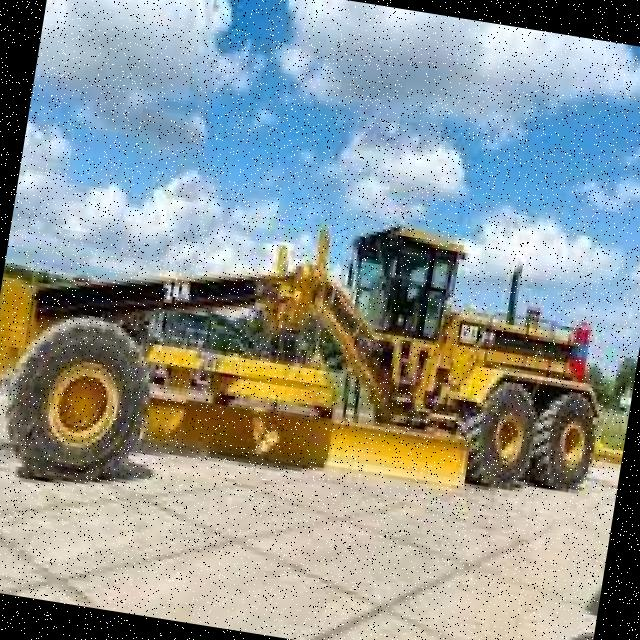Grader: (0, 134, 636, 566)
